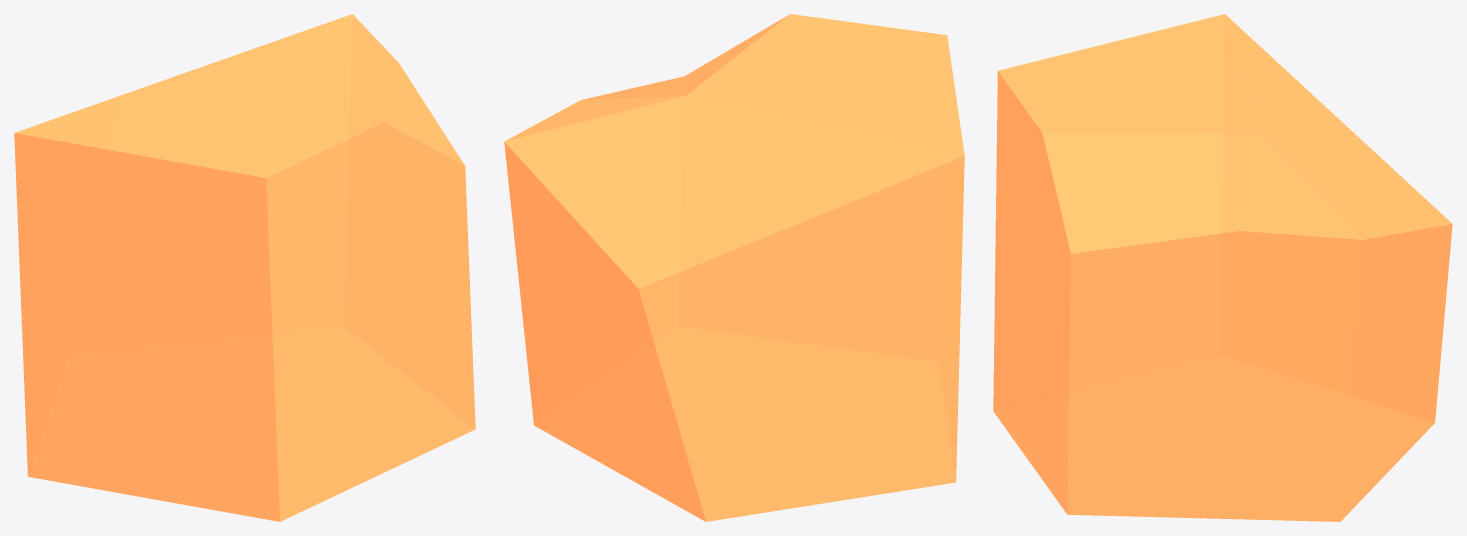
The model's file is Orange ore 1.fbx.
3 renders of one model, left to right at view 1: azimuth 30°, elevation 25°; view 2: azimuth 150°, elevation 25°; view 3: azimuth 270°, elevation 25°, orthographic. The views are drawn at different scales.
Visible parts, largest first — view 1: Cylinder.068; view 2: Cylinder.068; view 3: Cylinder.068.
Part boxes in pixels (left/top/right/bottom): Cylinder.068: left=14, top=14, right=475, bottom=521; Cylinder.068: left=504, top=14, right=964, bottom=521; Cylinder.068: left=993, top=14, right=1452, bottom=521.
Bounding box in the file's own units: 18.83 × 15.69 × 18.84.
